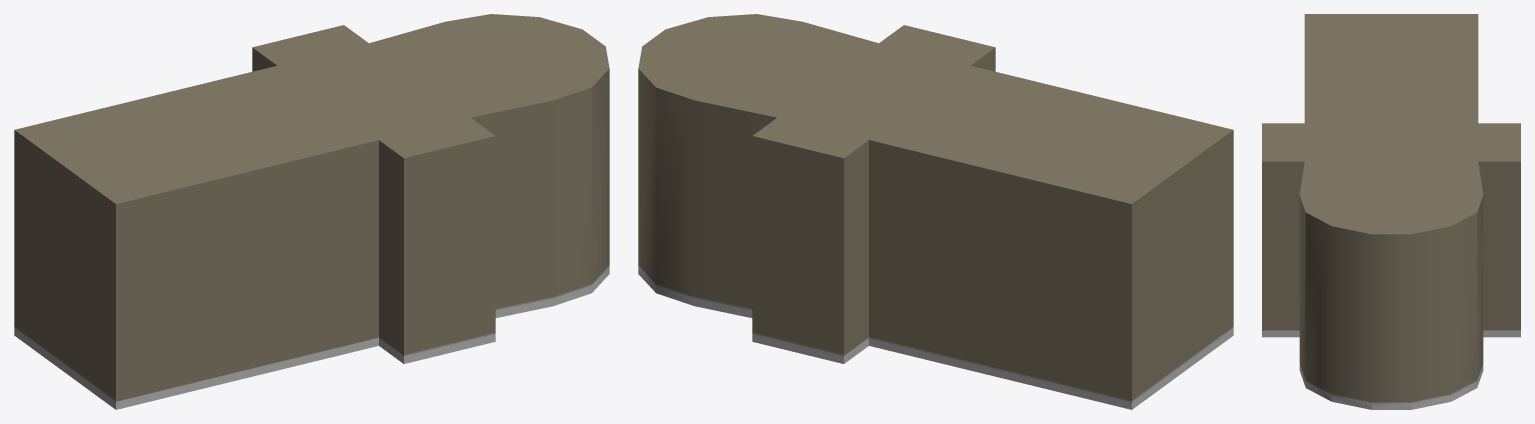
Rendered from igrejaPronta.fbx.
The picture shows the model from 3 angles, left to right: view 1: azimuth 30°, elevation 25°; view 2: azimuth 150°, elevation 25°; view 3: azimuth 270°, elevation 25°; orthographic projection. The views are drawn at different scales.
Visible parts, largest first — view 1: pCube2; view 2: pCube2; view 3: pCube2.
Part boxes in pixels (left/top/right/bottom): pCube2: left=14, top=14, right=609, bottom=409; pCube2: left=638, top=14, right=1233, bottom=409; pCube2: left=1262, top=14, right=1520, bottom=409.
Size of the model in its own units: 66.71 by 24.8 by 33.13.
